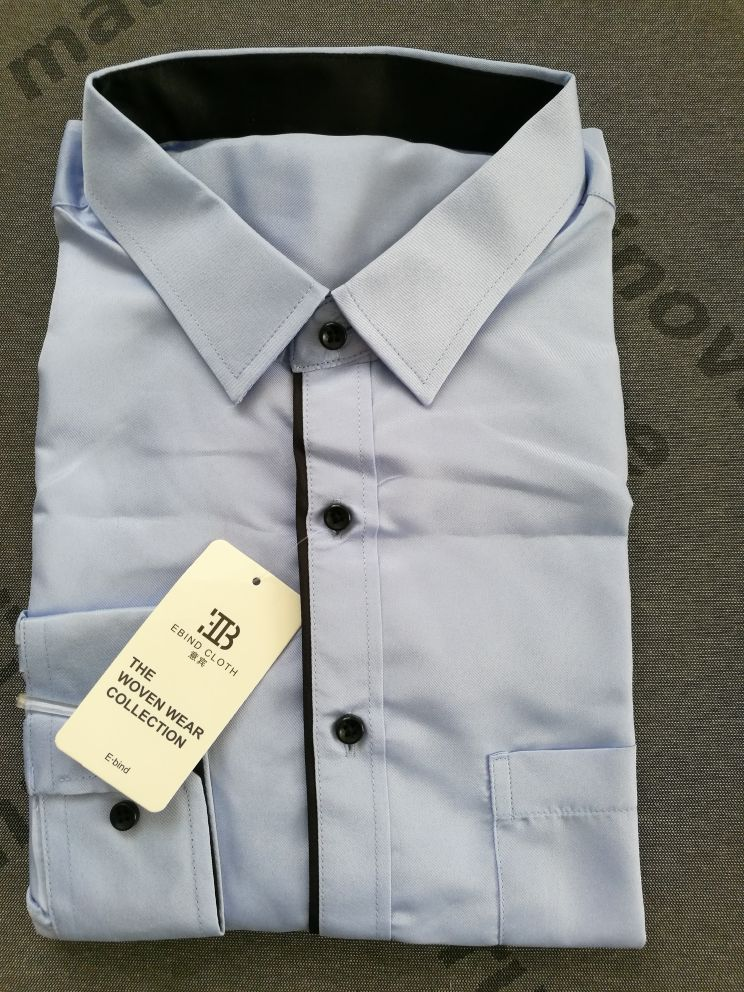shirts: (29, 45, 649, 951)
